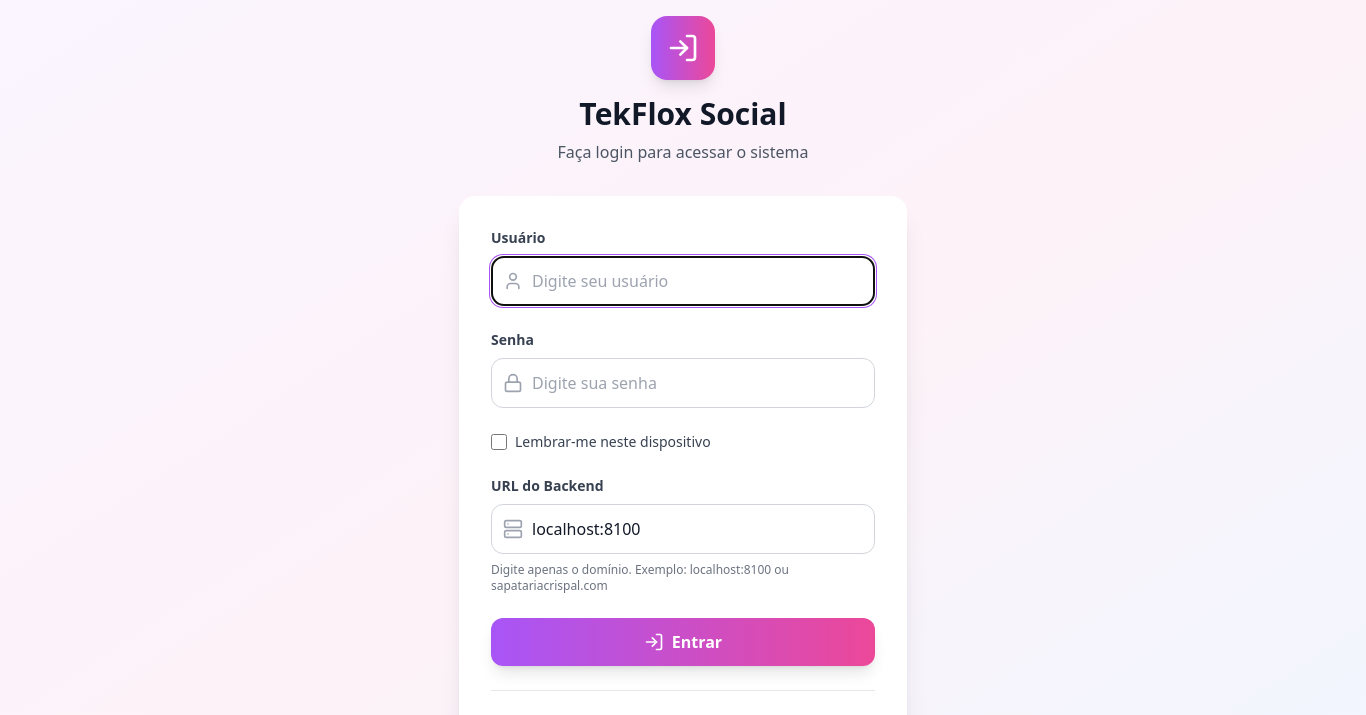
Test: Login › deve validar campo usuário vazio
Click the button "Entrar". click: point(683, 642)
box: [491,618,875,666]
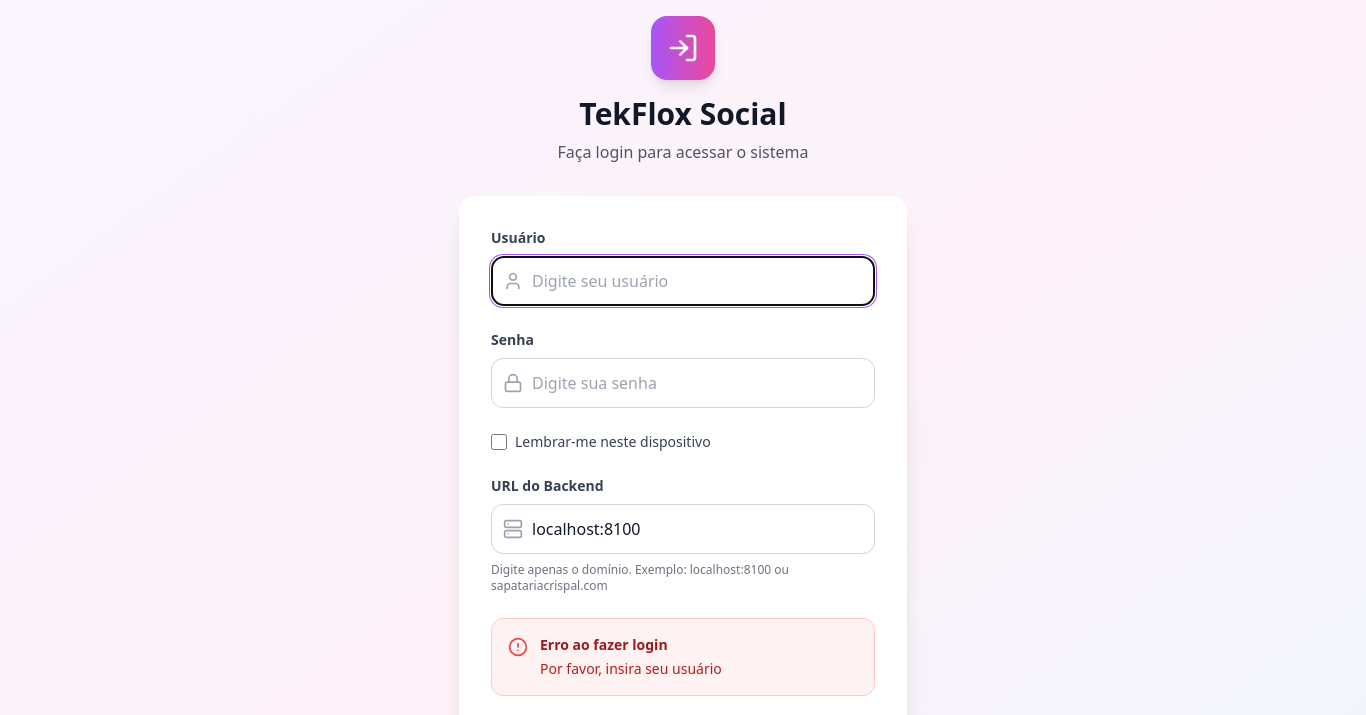
Now the text "Por favor, insira seu usuário" is shown, box [540,659,722,678]
